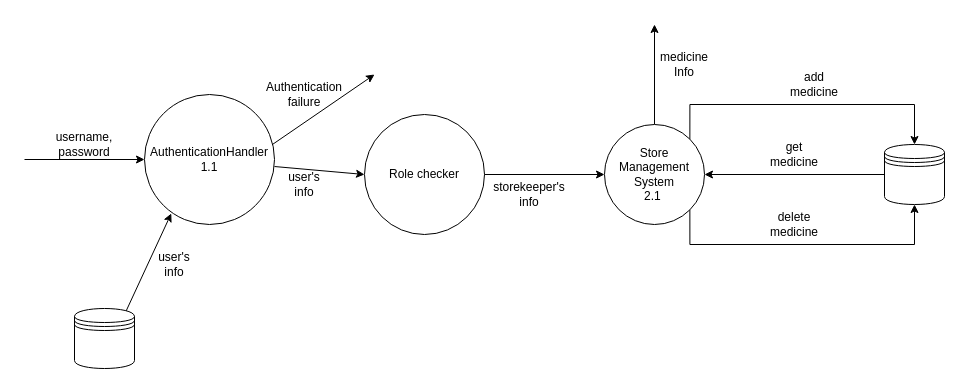
The diagram is 962 pixels wide and 386 high, and some of its shapes have lost their labels. The shapes that lost their labels are listed below. From the top down, each one's centre as x and y in pixels, then its label:
At (x=914, y=174): "medicine".
At (x=104, y=338): "user".
